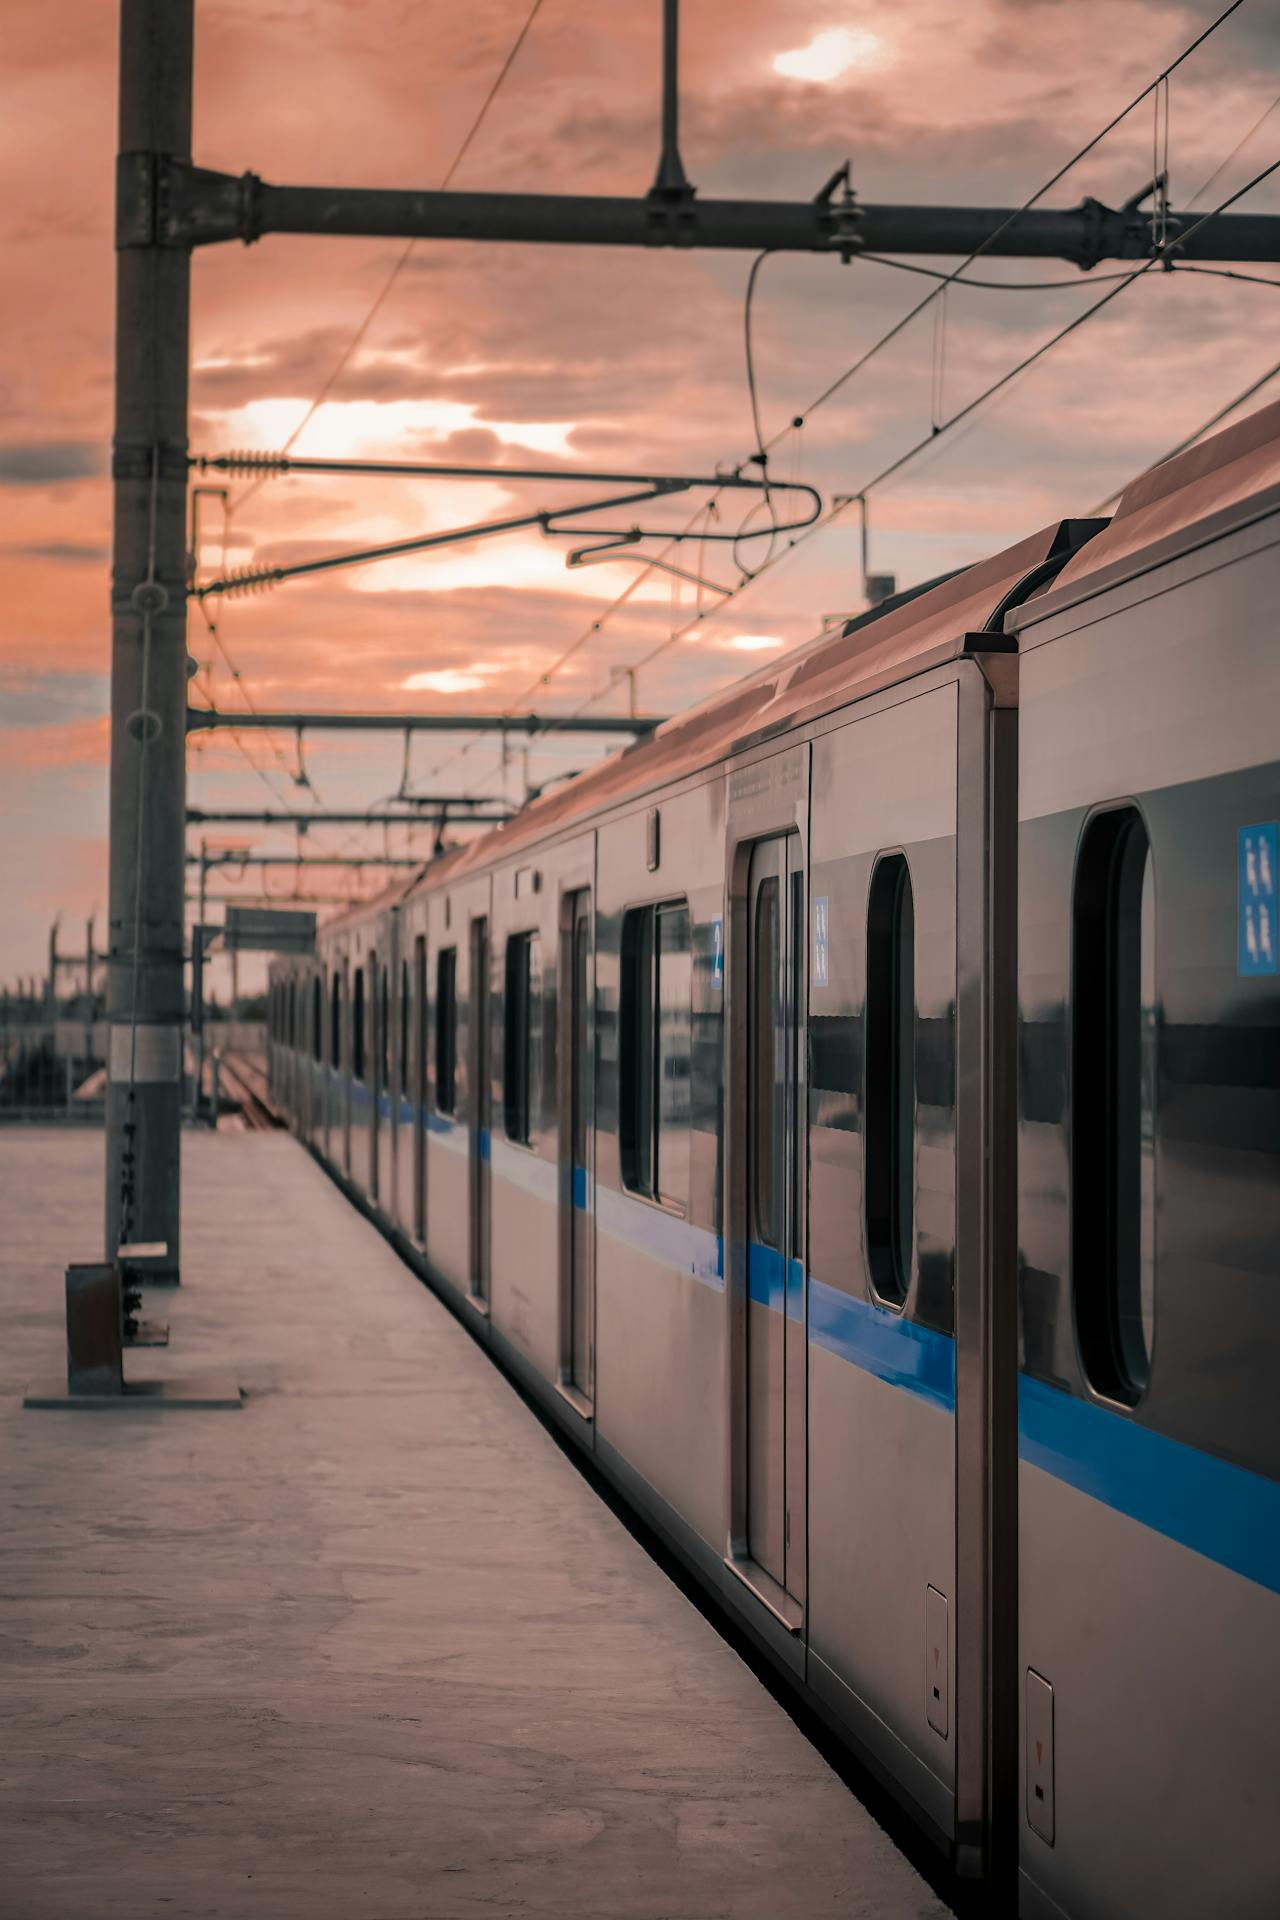train: (266, 597, 1261, 1894)
